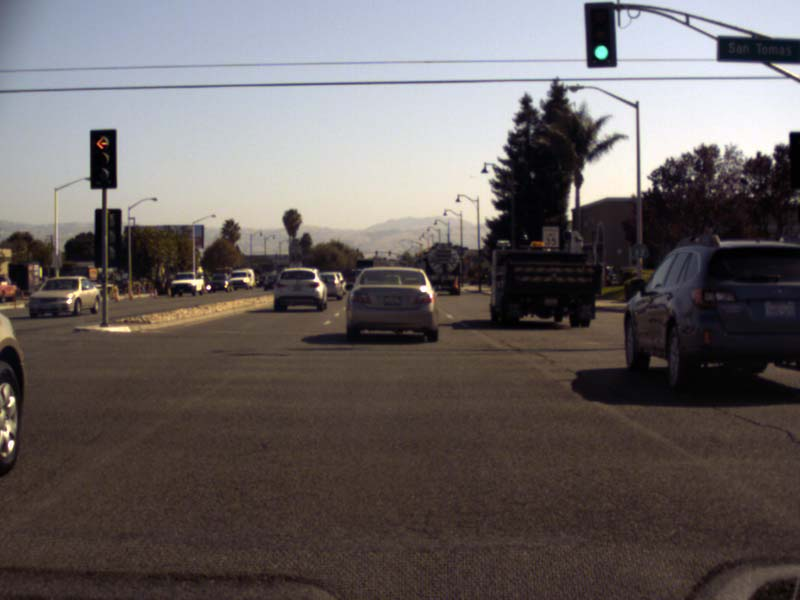Green: (585, 2, 617, 67)
Red: (90, 129, 117, 188)
